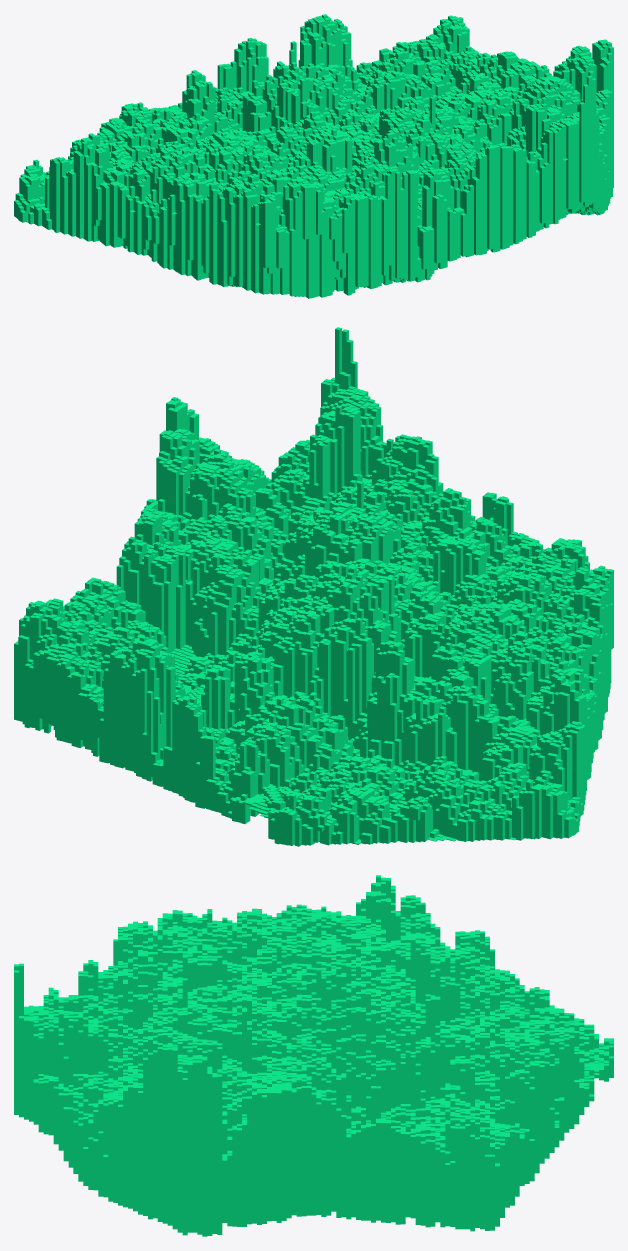
The model's file is laGamba.glb.
The picture shows the model from 3 angles, top to bottom: view 1: azimuth 30°, elevation 25°; view 2: azimuth 150°, elevation 25°; view 3: azimuth 270°, elevation 25°; orthographic projection. The views are drawn at different scales.
Visible parts, largest first — view 1: 1; view 2: 1; view 3: 1.
Part boxes in pixels (x1,y1,x2,y2): 1: (14, 14, 613, 298); 1: (14, 327, 613, 846); 1: (14, 875, 613, 1236).
Bounding box in the file's own units: 0.5984 × 0.2501 × 0.5747.
